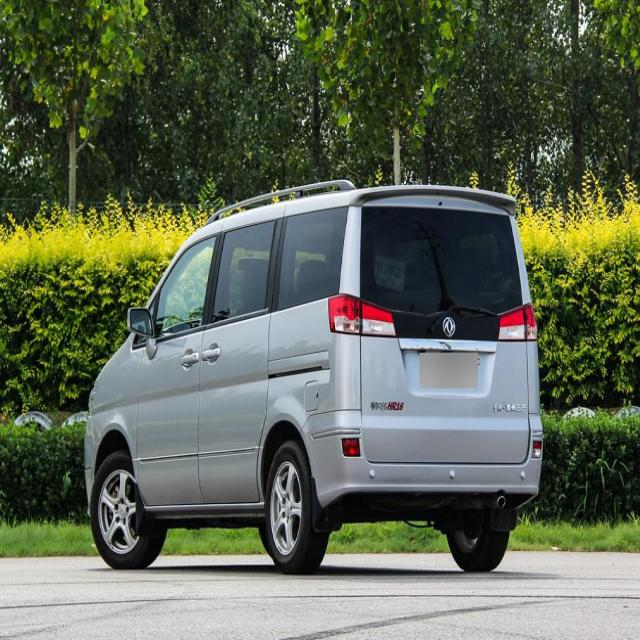back_glass: (357, 199, 524, 317)
back_left_side_light: (327, 292, 398, 338)
back_right_side_light: (494, 302, 539, 344)
door: (195, 215, 288, 525)
front_left_side_door: (134, 216, 226, 510)
front_left_side_mirror: (124, 302, 158, 353)
rear_bumper: (297, 408, 544, 500)
wheel: (90, 452, 166, 567), (264, 440, 325, 570), (443, 507, 511, 569)
